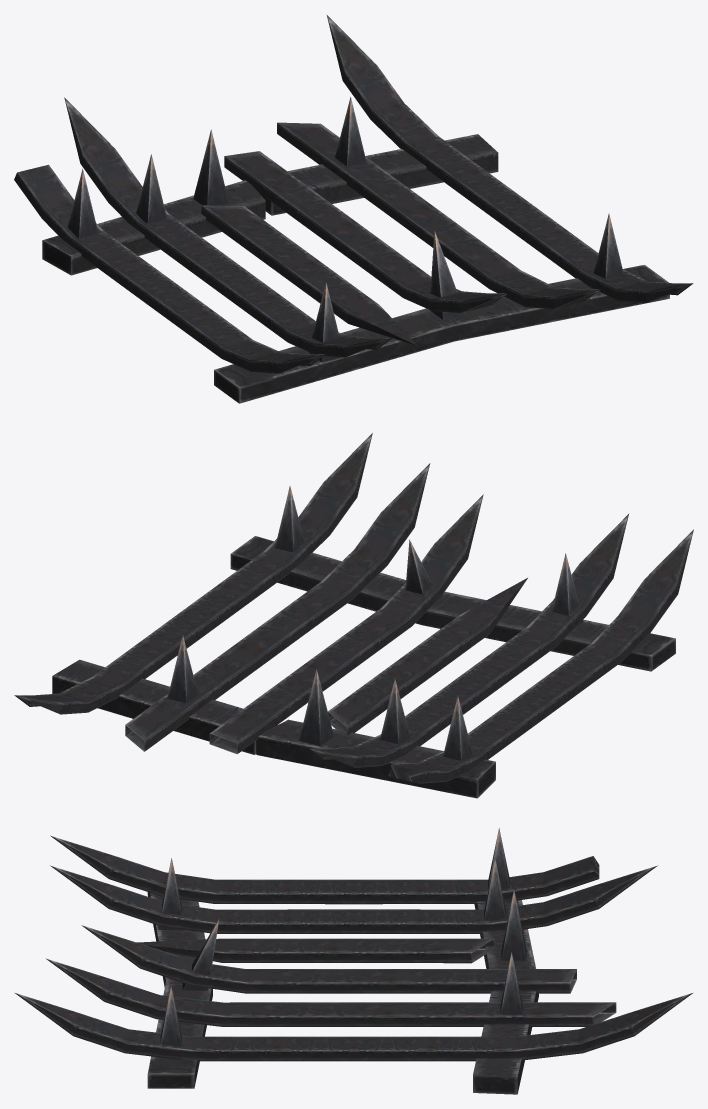
Rendered from 10504_IronRail05.FBX.
3 views of the same model, one above another, from view 1: azimuth 30°, elevation 25°; view 2: azimuth 150°, elevation 25°; view 3: azimuth 270°, elevation 25° (orthographic). The views are drawn at different scales.
Visible parts, largest first — view 1: 10504_IronRail05; view 2: 10504_IronRail05; view 3: 10504_IronRail05.
Boxes of the visible parts, box(x1,y1,x2,y2) form: 10504_IronRail05: box(14, 15, 693, 403); 10504_IronRail05: box(14, 433, 693, 798); 10504_IronRail05: box(15, 828, 692, 1094).
Bounding box in the file's own units: 446 × 88.6 × 647.
